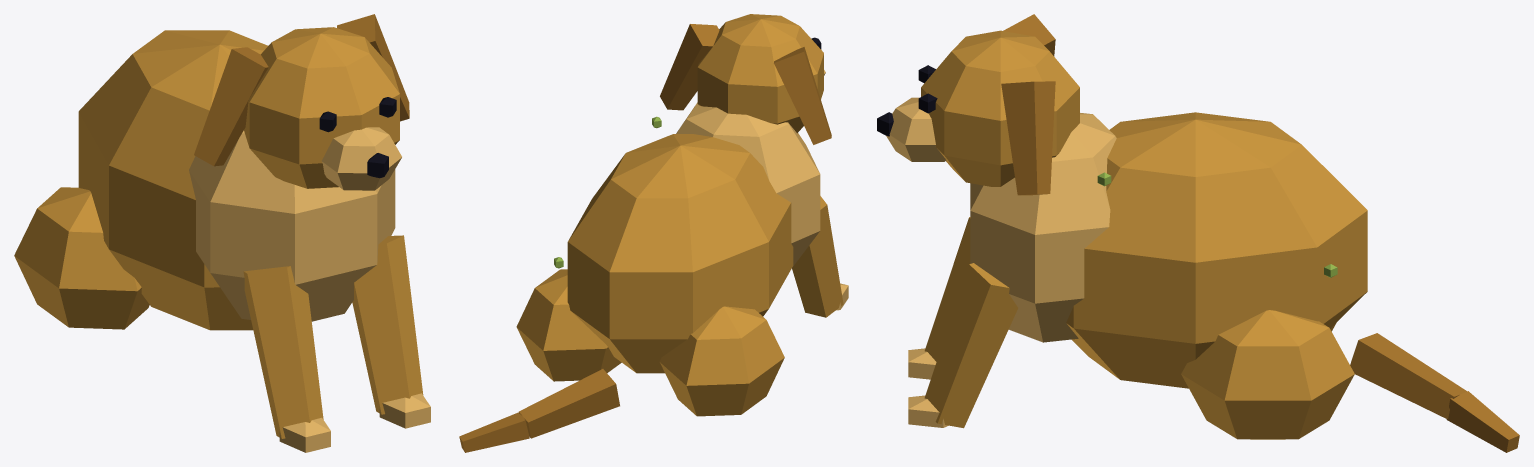
File: prop_nureongi.glb
The picture shows the model from 3 angles, left to right: view 1: azimuth 30°, elevation 25°; view 2: azimuth 150°, elevation 25°; view 3: azimuth 270°, elevation 25°; orthographic projection. The views are drawn at different scales.
Visible parts, largest first — view 1: prop_nureongi; view 2: prop_nureongi; view 3: prop_nureongi.
Part boxes in pixels (x1=…): prop_nureongi: x1=14, y1=14, x2=430, y2=452; prop_nureongi: x1=459, y1=14, x2=848, y2=452; prop_nureongi: x1=877, y1=14, x2=1519, y2=452.
Size of the model in its own units: 0.5852 by 0.7225 by 1.15.
